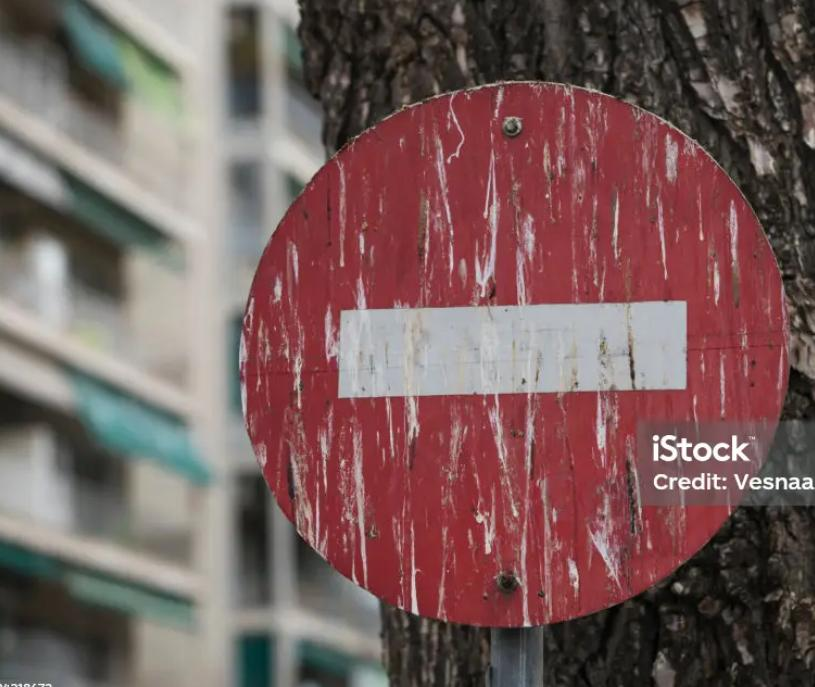obstructed_road_sign: (241, 83, 786, 625)
